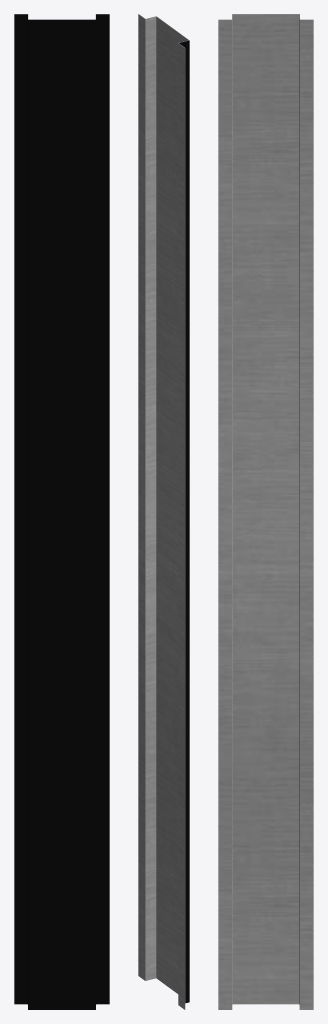
File: bardage à cassette.gltf
The picture shows the model from 3 angles, left to right: view 1: azimuth 90°, elevation 25°; view 2: azimuth 210°, elevation 25°; view 3: azimuth 270°, elevation 25°; orthographic projection. The views are drawn at different scales.
Parts seen in each view (by area): view 1: bardage a cassette 1; view 2: bardage a cassette 1; view 3: bardage a cassette 1.
Boxes of the visible parts, x1,y1,x2,y2 form: bardage a cassette 1: [14, 14, 109, 1009]; bardage a cassette 1: [138, 14, 189, 1009]; bardage a cassette 1: [218, 14, 313, 1009].
Bounding box in the file's own units: 0.025 × 2 × 0.175.
Materials: 2 (1 with a texture image).
